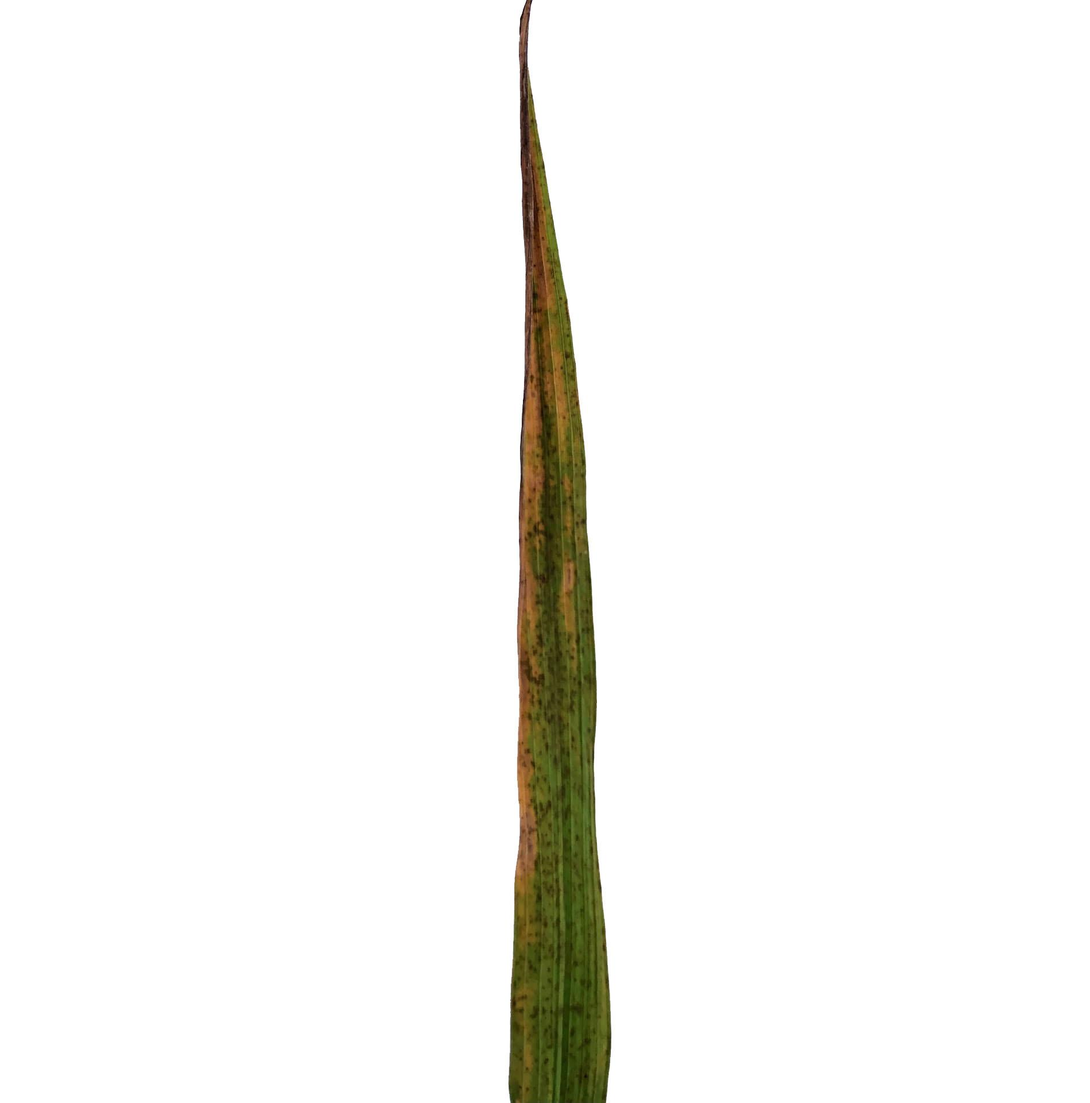Leaf Smut: (507, 0, 613, 1103), (522, 392, 585, 829), (524, 861, 598, 1103)
